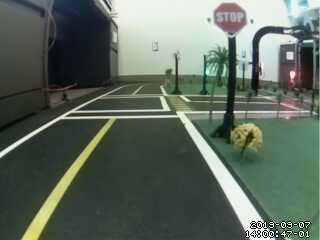Stop_Sign: (212, 3, 251, 36)
